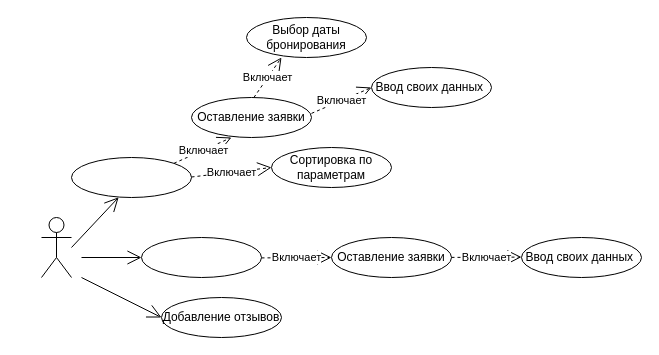
The diagram is 659 pixels wide and 355 high, and some of its shapes have lost their labels. Here are the shapes that lost their labels. From the top down, the centre of each, then its label:
At pixel 131 177: "Просмотр всего каталога авто".
At pixel 56 247: "Пользователь".
At pixel 201 257: "Просмотр всего каталога услуг".
